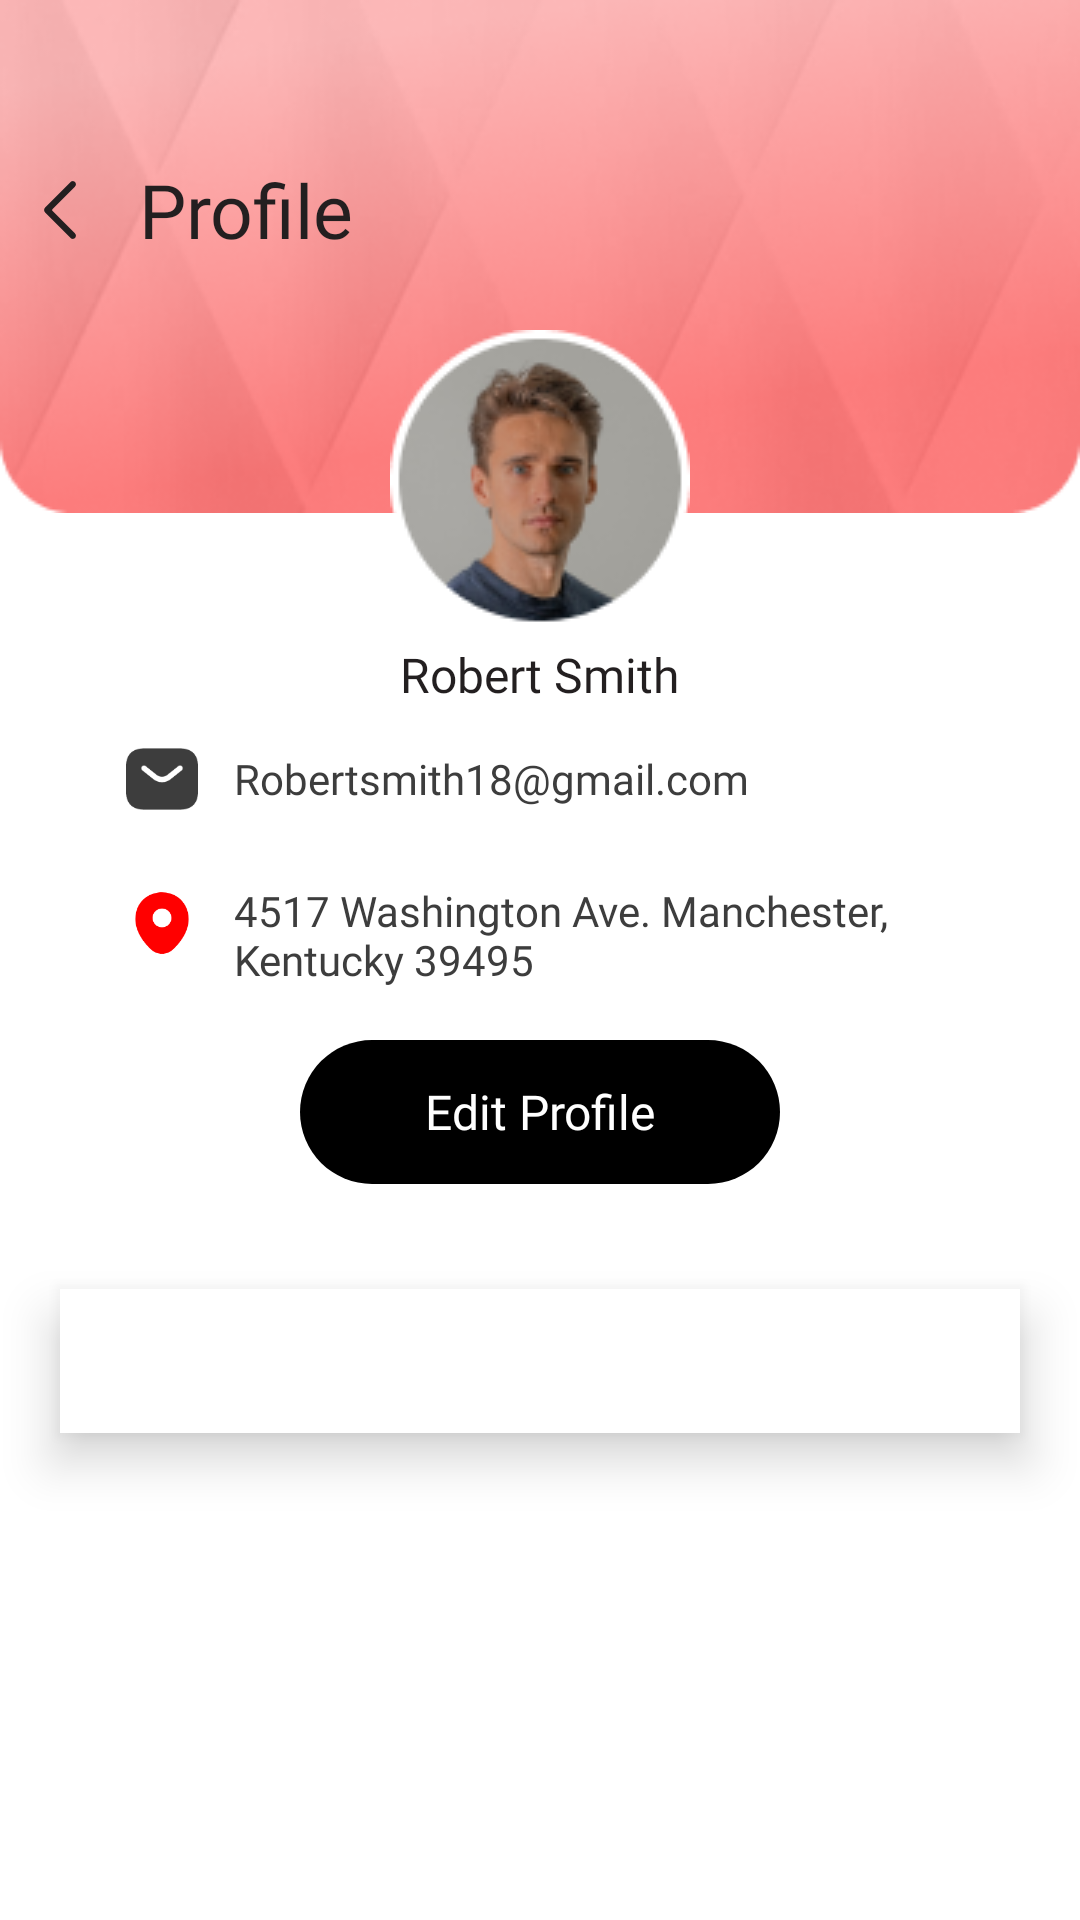

Screen size 1080×1920. Icon name, then its box in pixels as bbox(x1, y1, x2, y2):
back: bbox(44, 181, 76, 239)
email: bbox(126, 748, 198, 810)
location: bbox(135, 892, 189, 954)
